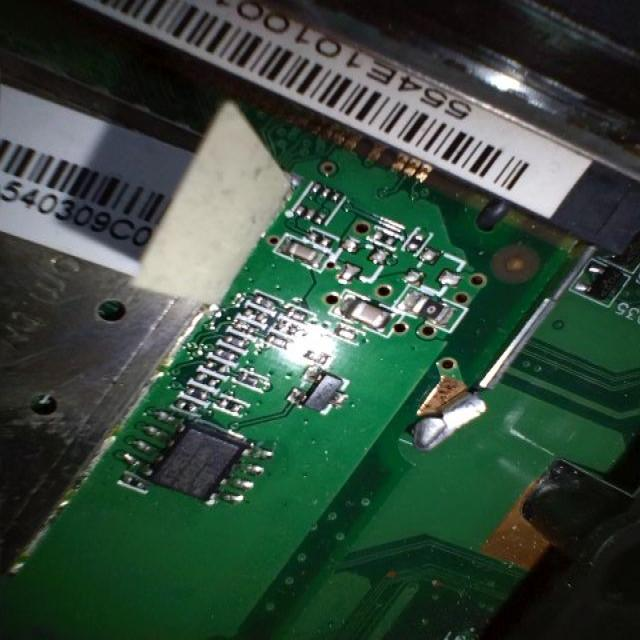capacitor: (327, 279, 401, 343)
